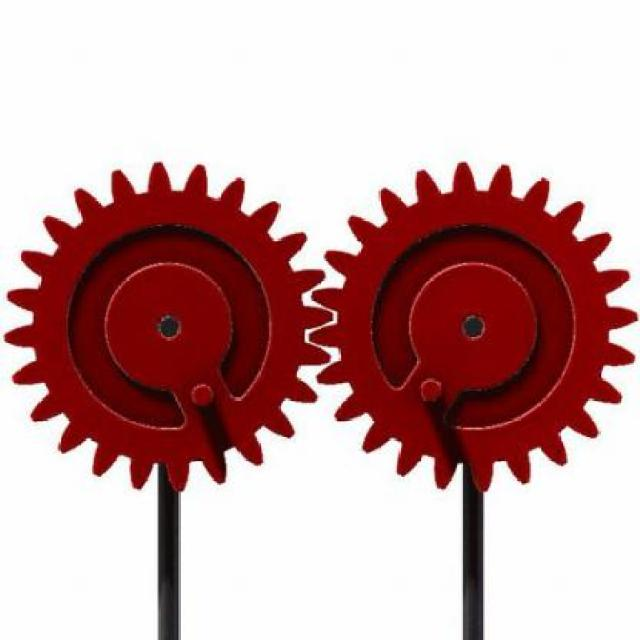Gear: (306, 160, 639, 497), (5, 158, 334, 494)
